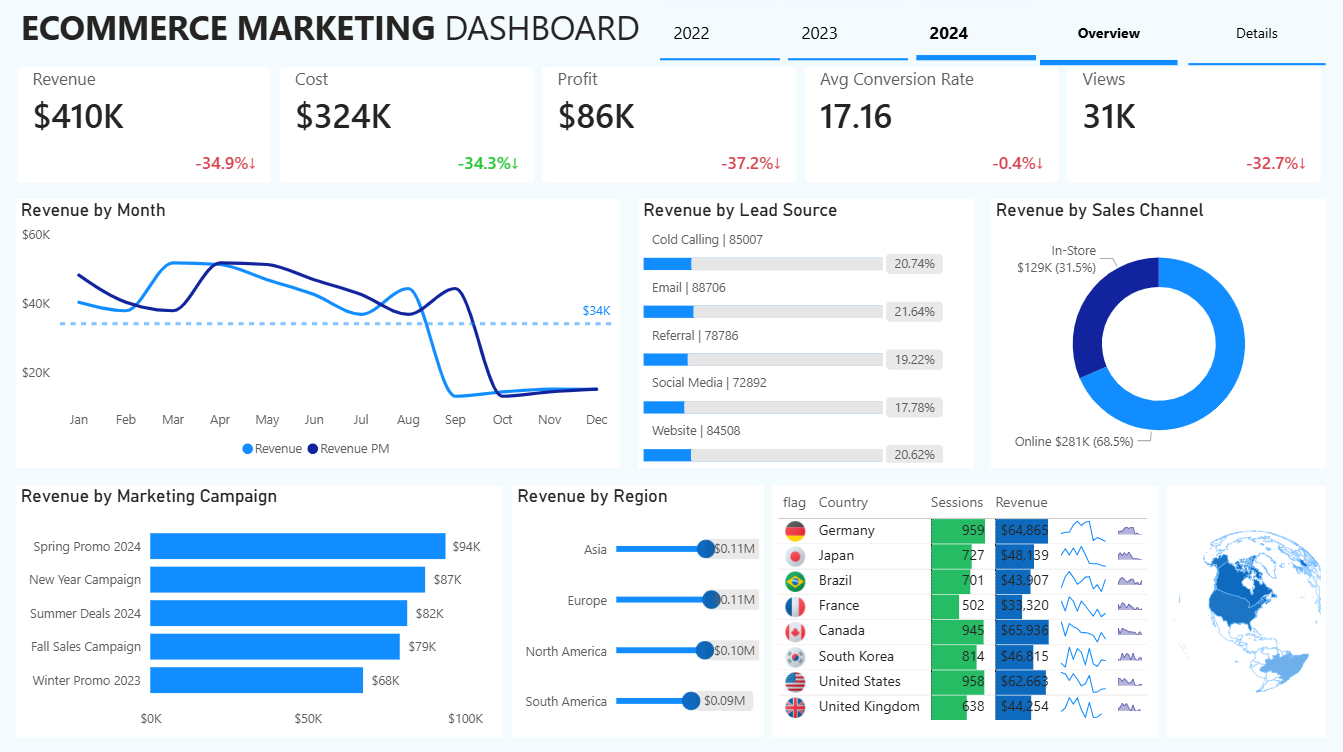

The dashboard page shown, as its layout file describes it:
{"tool":"powerbi","page":{"name":"Overview","canvas":[1280,720],"ordinal":0},"visuals":[{"type":"textbox","box":[16,0,624,64],"z":0},{"type":"cardVisual","fields":{"Data":["All Measures.Revenue","All Measures.Cost","All Measures.Profit","All Measures.Avg Conversion Rate","All Measures.Views"]},"box":[0,48,1280,144],"z":1000},{"type":"advancedSlicerVisual","fields":{"Values":["Calendar.Year"]},"box":[624,0,368,64],"z":2000},{"type":"lineChart","title":"Revenue by Month","fields":{"Y":["All Measures.Revenue","All Measures.Revenue PM"],"Category":["Calendar.Month"]},"box":[16,192,576,256],"z":3000},{"type":"barChart","fields":{"Y":["All Measures.Revenue"],"Category":["dimMarketingCampaign.Marketing Campaign"]},"box":[16,464,464,240],"z":4000},{"type":"clusteredBarChart","title":"Revenue by Lead Source","fields":{"Category":["dimLeadSource.Lead Source"],"Y":["All Measures.Base Zero","All Measures.Rev % of Lead","All Measures.Whole"]},"box":[608,192,320,256],"z":5000},{"type":"donutChart","fields":{"Y":["All Measures.Revenue"],"Category":["dimChannel.Sales Channel"]},"box":[944,192,320,256],"z":6000},{"type":"clusteredBarChart","title":"Revenue by Region","fields":{"Category":["dimCountry.Region"],"Y":["All Measures.Blank1","All Measures.Revenue","All Measures.Blank2"]},"box":[488,464,240,240],"z":6001},{"type":"tableEx","fields":{"Values":["Country Flag.flag","Country Flag.Country","Sum(factSalesData.Sessions)","All Measures.Revenue","SparklineData(All Measures.Revenue_[Calendar.Monthnum])","All Measures.Revenue Sparkline"]},"box":[736,464,368,240],"z":6002},{"type":"shapeMap","fields":{"Category":["dimCountry.Country"],"Value":["All Measures.Revenue"]},"box":[1112,464,152,240],"z":6003},{"type":"pageNavigator","box":[992,0,272,64],"z":6004}]}

Visuals, with their boxes in screenshot pixels (x1, y1, x2, y2), scaled from the page's 1280x720 canvas onto the 1343x752 screenshot:
textbox: [17,0,672,67]
cardVisual - All Measures.Revenue x All Measures.Cost: [0,50,1342,201]
advancedSlicerVisual - Calendar.Year: [655,0,1041,67]
"Revenue by Month" lineChart: [17,201,621,468]
barChart - All Measures.Revenue x dimMarketingCampaign.Marketing Campaign: [17,485,504,735]
"Revenue by Lead Source" clusteredBarChart: [638,201,974,468]
donutChart - All Measures.Revenue x dimChannel.Sales Channel: [990,201,1326,468]
"Revenue by Region" clusteredBarChart: [512,485,764,735]
tableEx - Country Flag.flag x Country Flag.Country: [772,485,1158,735]
shapeMap - dimCountry.Country x All Measures.Revenue: [1167,485,1326,735]
pageNavigator: [1041,0,1326,67]
